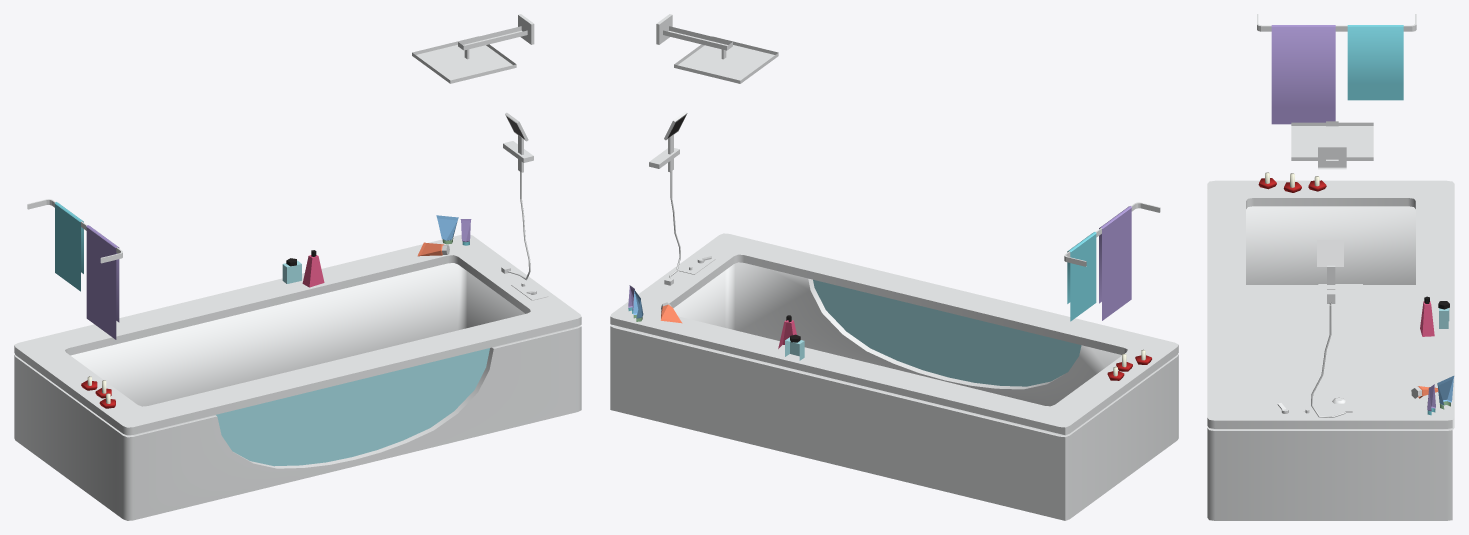
Rendered from M_yugang01.FBX.
The picture shows the model from 3 angles, left to right: view 1: azimuth 30°, elevation 25°; view 2: azimuth 150°, elevation 25°; view 3: azimuth 270°, elevation 25°; orthographic projection. The views are drawn at different scales.
Visible parts, largest first — view 1: M_yugang01_01, M_yugang01_02, M_yugang01_06, M_yugang01_03, M_yugang01_04; view 2: M_yugang01_01, M_yugang01_02, M_yugang01_06, M_yugang01_03, M_yugang01_04; view 3: M_yugang01_01, M_yugang01_03, M_yugang01_06, M_yugang01_04, M_yugang01_05.
Boxes of the visible parts, <box> form: M_yugang01_01: <box>14,235,581,520</box>; M_yugang01_02: <box>216,348,489,466</box>; M_yugang01_06: <box>27,14,548,300</box>; M_yugang01_03: <box>54,116,524,403</box>; M_yugang01_04: <box>282,215,471,287</box>; M_yugang01_01: <box>610,233,1178,520</box>; M_yugang01_02: <box>813,279,1081,386</box>; M_yugang01_06: <box>649,14,1160,285</box>; M_yugang01_03: <box>668,115,1145,376</box>; M_yugang01_04: <box>628,285,804,360</box>; M_yugang01_01: <box>1207,180,1454,520</box>; M_yugang01_03: <box>1265,25,1403,187</box>; M_yugang01_06: <box>1257,14,1416,417</box>; M_yugang01_04: <box>1411,296,1454,415</box>; M_yugang01_05: <box>1258,178,1326,192</box>.
Size of the model in its own units: 4.25 by 3.07 by 1.84.
